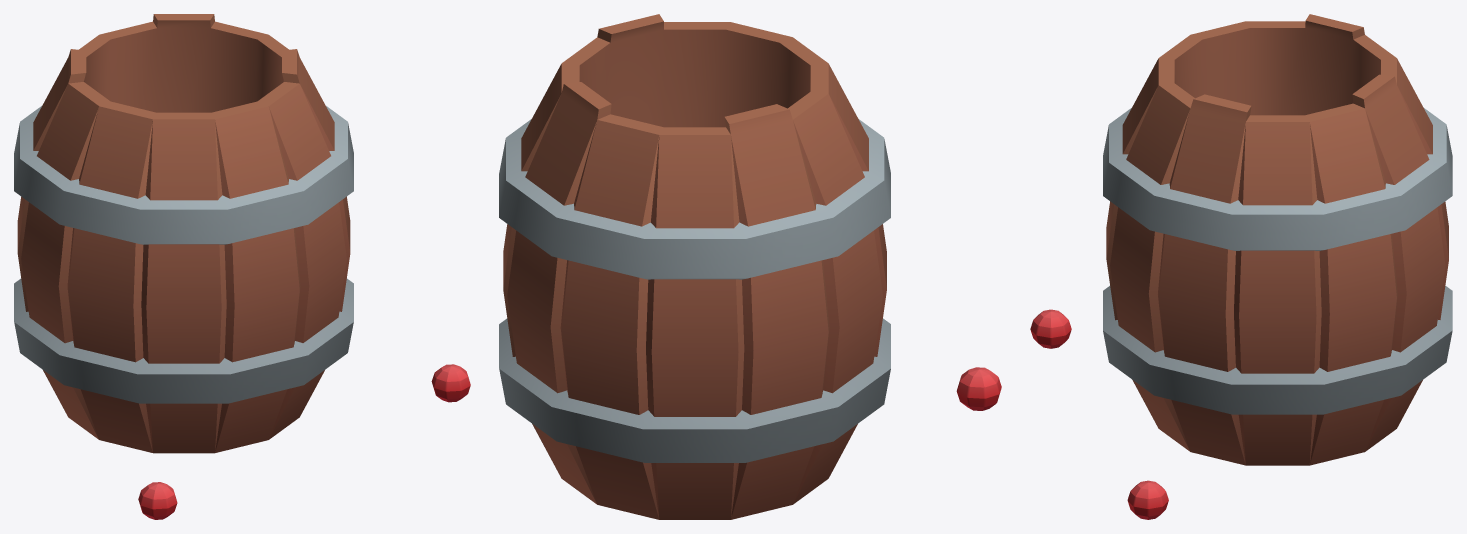
The model's file is apple_barrel_9.glb.
The picture shows the model from 3 angles, left to right: view 1: azimuth 30°, elevation 25°; view 2: azimuth 150°, elevation 25°; view 3: azimuth 270°, elevation 25°; orthographic projection. The views are drawn at different scales.
Parts seen in each view (by area): view 1: apple_barrel_9; view 2: apple_barrel_9; view 3: apple_barrel_9.
Part boxes in pixels (bbox=[...]): apple_barrel_9: bbox=[14, 14, 470, 519]; apple_barrel_9: bbox=[499, 14, 1001, 519]; apple_barrel_9: bbox=[1030, 14, 1452, 519].
Size of the model in its own units: 1.38 by 1.2 by 1.3.
2 materials, 2 textured.
